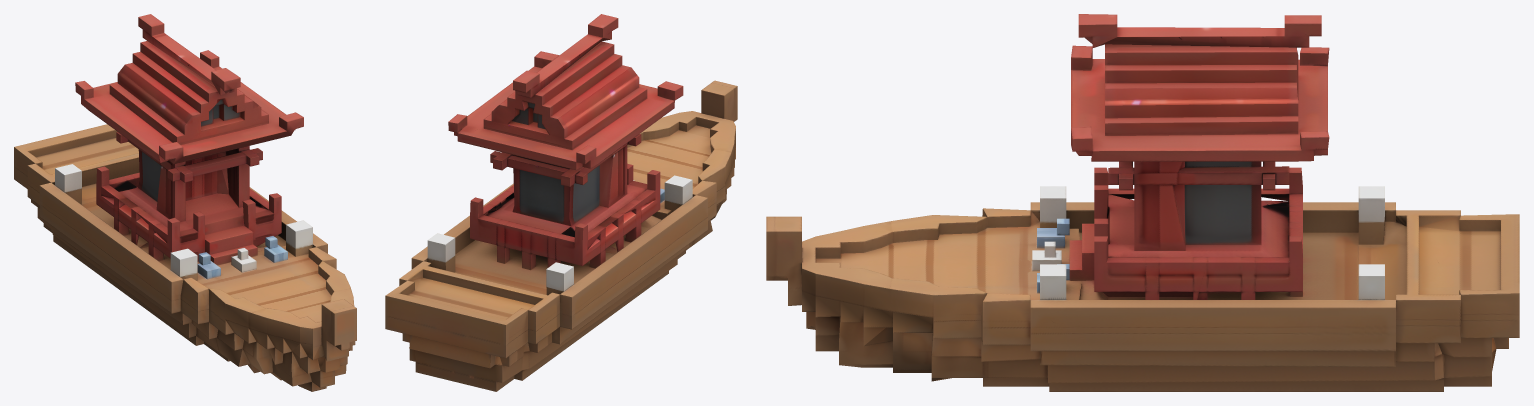
Rendered from shorobuni.obj.
3 views of the same model, side by side, from view 1: azimuth 30°, elevation 25°; view 2: azimuth 150°, elevation 25°; view 3: azimuth 270°, elevation 25° (orthographic). The views are drawn at different scales.
Parts seen in each view (by area): view 1: model; view 2: model; view 3: model.
Part boxes in pixels (x1,y1,x2,y2): model: [14, 14, 356, 391]; model: [385, 14, 737, 391]; model: [766, 14, 1519, 391].
Size of the model in its own units: 0.6264 by 0.9454 by 1.89.
1 material, 1 textured.
